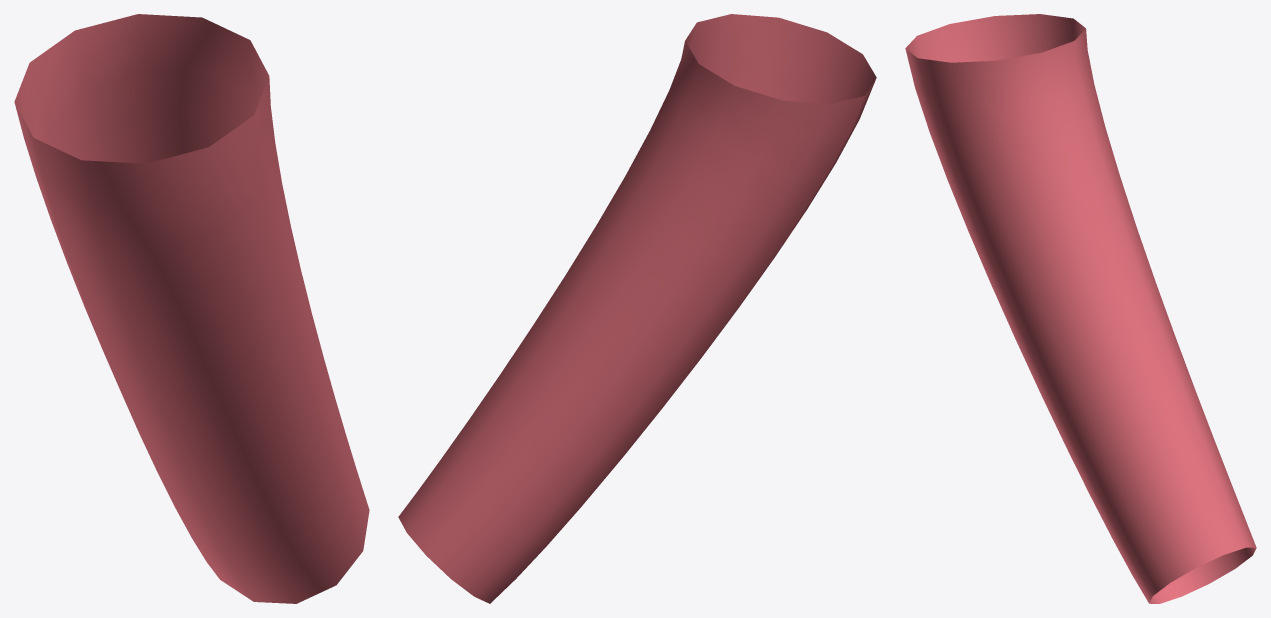
3 views of the same model, side by side, from view 1: azimuth 30°, elevation 25°; view 2: azimuth 150°, elevation 25°; view 3: azimuth 270°, elevation 25° (orthographic). The views are drawn at different scales.
Visible parts, largest first — view 1: ZA_813237198df066e1; view 2: ZA_813237198df066e1; view 3: ZA_813237198df066e1.
Boxes of the visible parts, x1=… form: ZA_813237198df066e1: x1=14, y1=14, x2=369, y2=603; ZA_813237198df066e1: x1=398, y1=14, x2=876, y2=603; ZA_813237198df066e1: x1=905, y1=14, x2=1256, y2=603.
Bounding box in the file's own units: 0.0375 × 0.0537 × 0.0348.
